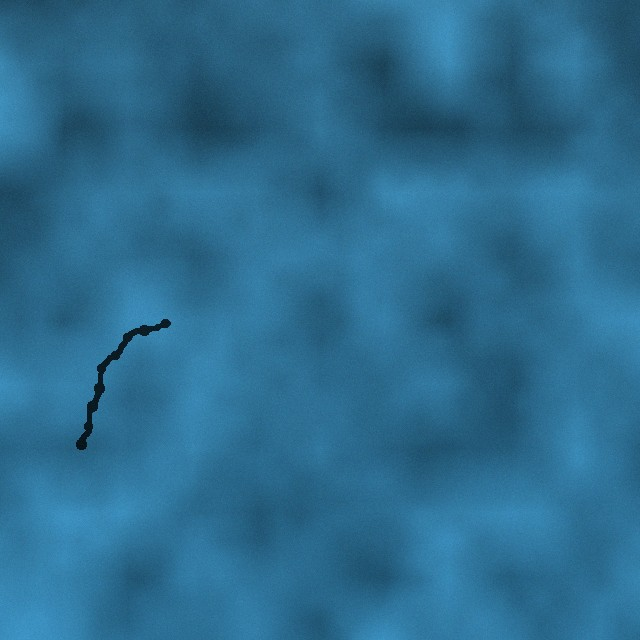crack: (76, 317, 173, 449)
